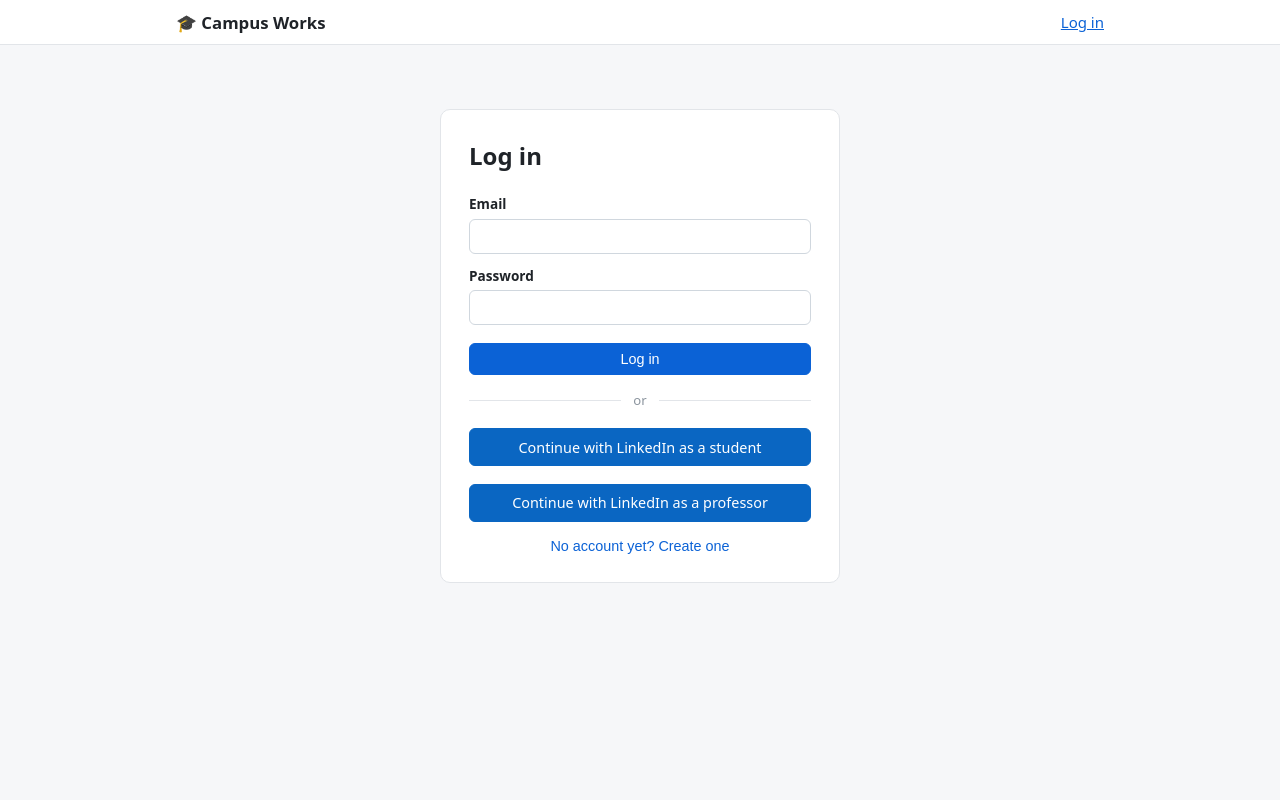
Scenario: logs in and lands on the openings page
Type "student@psu.edu" into the field labelled "Email" at (640, 236), box [469,219,811,254]
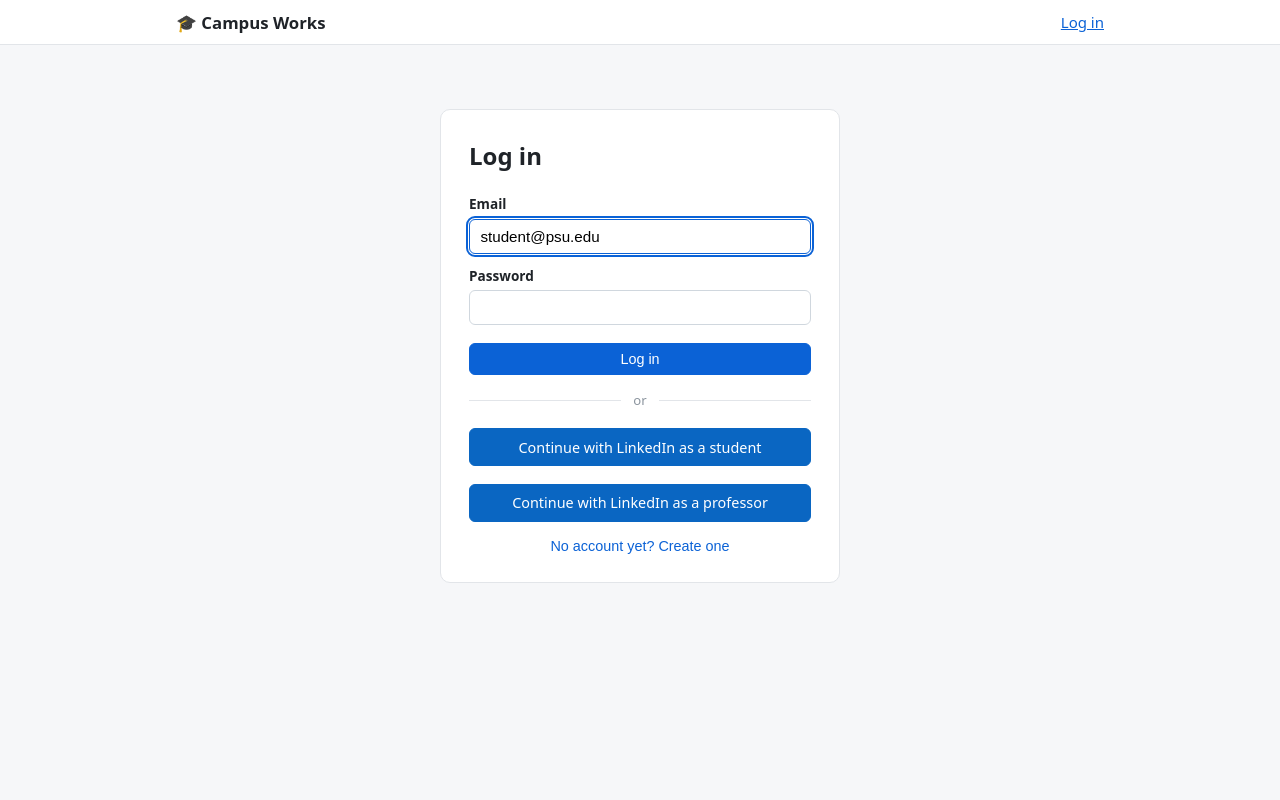
Type "Password123" into the password field labelled "Password" at (640, 308), box [469,290,811,325]
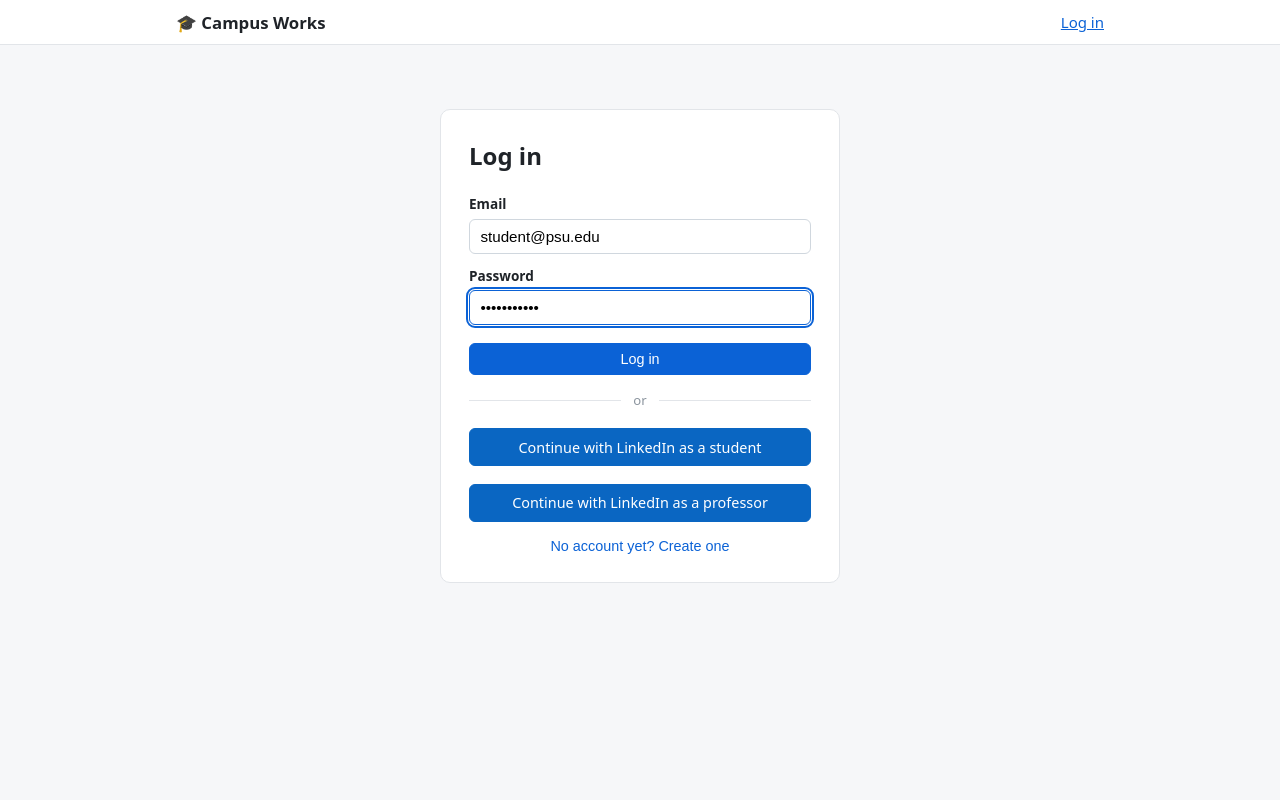
Click the button "Log in" at (640, 359), box [469,343,811,375]
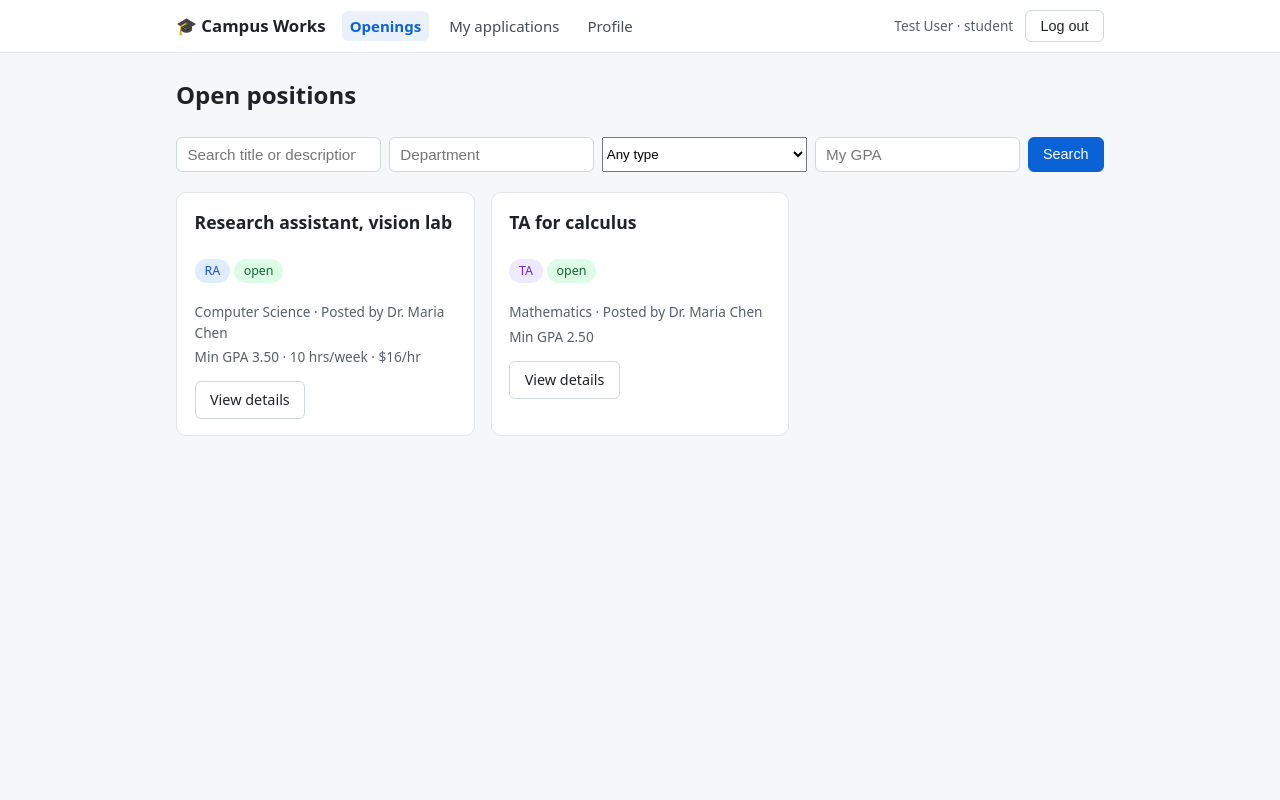
Check: the heading "Open positions" is shown, box [176,77,356,113]
Check: the heading "Research assistant, vision lab" is shown, box [195,209,456,235]
